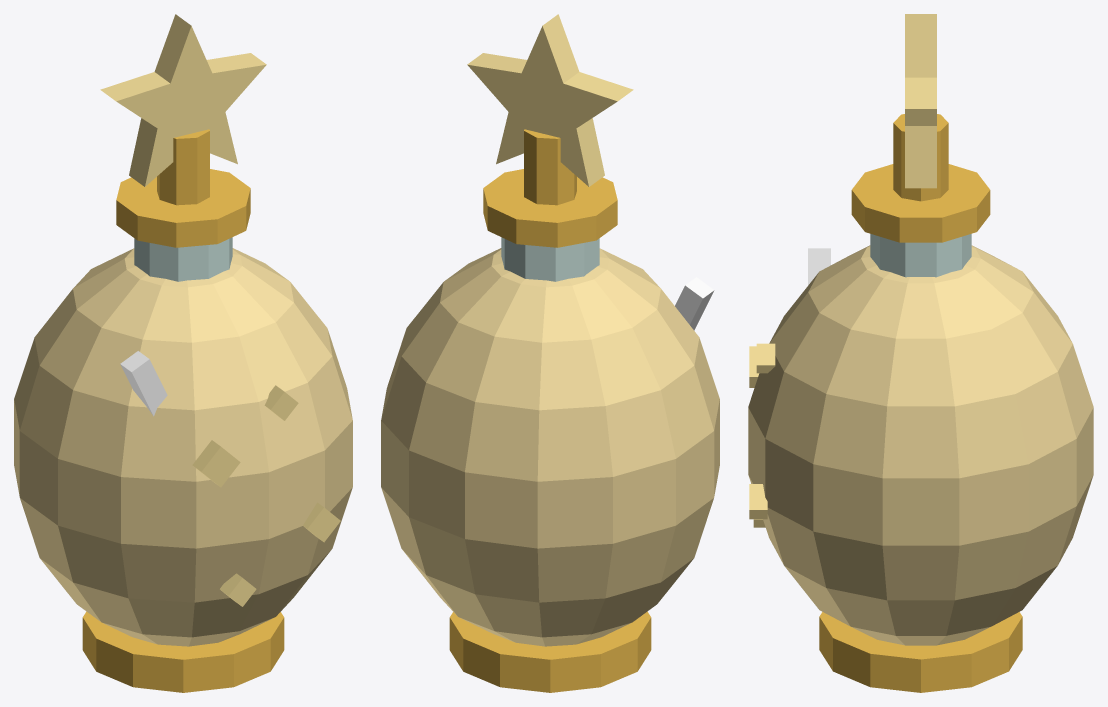
The model's file is CatCafe_Prop_Potion_GoldRush.glb.
3 renders of one model, left to right at view 1: azimuth 30°, elevation 25°; view 2: azimuth 150°, elevation 25°; view 3: azimuth 270°, elevation 25°, orthographic.
Visible parts, largest first — view 1: CatCafe_Prop_Potion_GoldRush; view 2: CatCafe_Prop_Potion_GoldRush; view 3: CatCafe_Prop_Potion_GoldRush.
Part boxes in pixels (x1,y1,x2,y2): CatCafe_Prop_Potion_GoldRush: (14,14,352,692); CatCafe_Prop_Potion_GoldRush: (381,14,719,692); CatCafe_Prop_Potion_GoldRush: (748,14,1093,692).
Bounding box in the file's own units: 0.7297 × 1.52 × 0.7485.
Materials: 1 (1 with a texture image).
